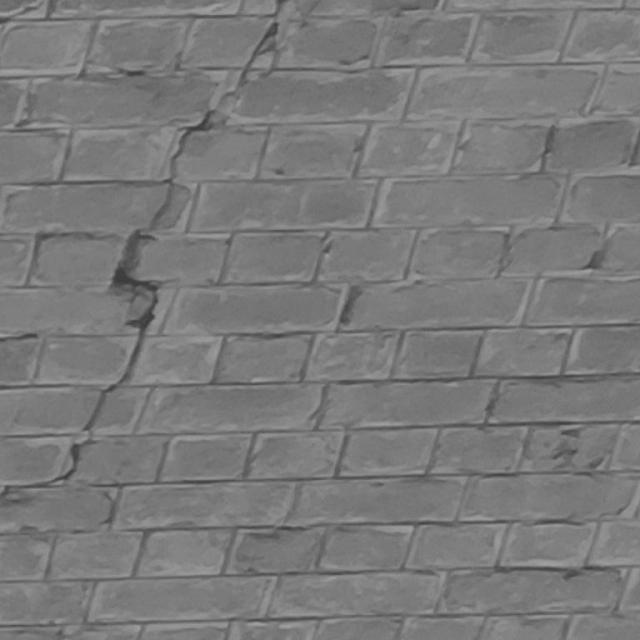crack: (1, 1, 284, 498)
